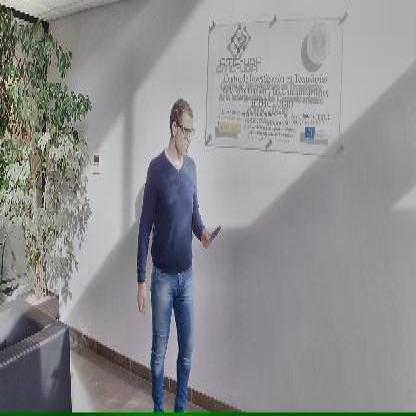knife: (204, 222, 223, 243)
